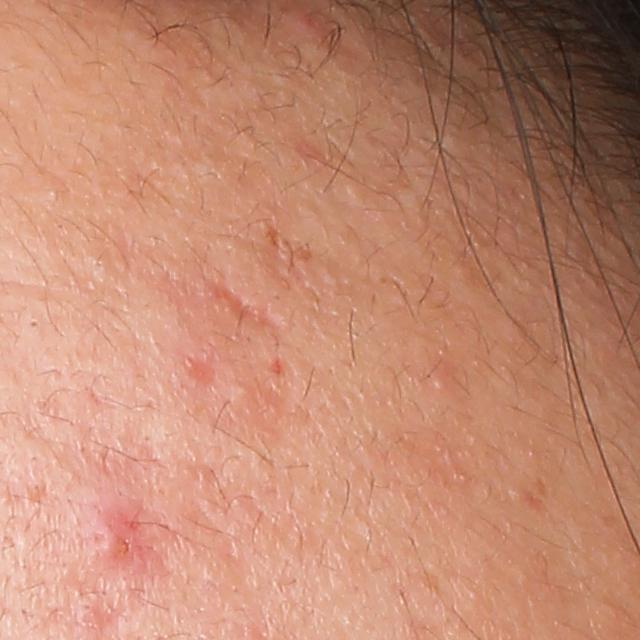atrophic_scar: (204, 274, 285, 332)
comedo: (430, 369, 452, 392), (43, 184, 64, 202), (26, 317, 41, 331)
